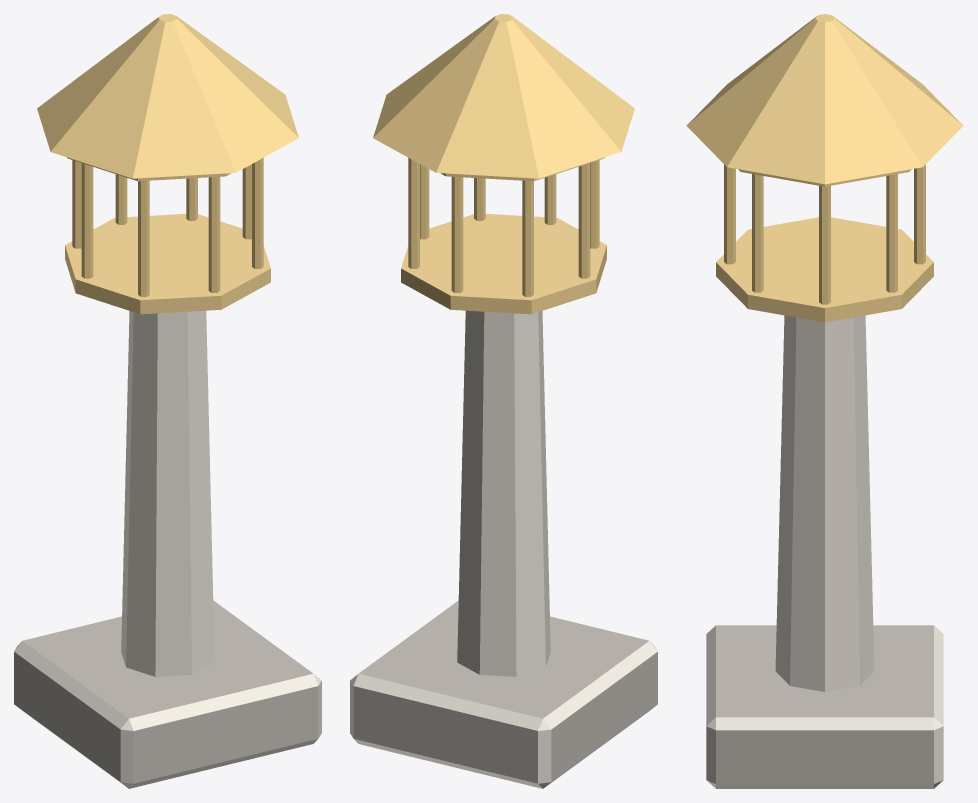
The model's file is LanternDawn.fbx.
The picture shows the model from 3 angles, left to right: view 1: azimuth 30°, elevation 25°; view 2: azimuth 150°, elevation 25°; view 3: azimuth 270°, elevation 25°; orthographic projection. The views are drawn at different scales.
Parts seen in each view (by area): view 1: LanternDawn; view 2: LanternDawn; view 3: LanternDawn.
Part boxes in pixels (x1=…): LanternDawn: x1=14, y1=14, x2=321, y2=788; LanternDawn: x1=350, y1=14, x2=657, y2=788; LanternDawn: x1=686, y1=14, x2=963, y2=788.
Bounding box in the file's own units: 1.4 × 4.04 × 1.4.
